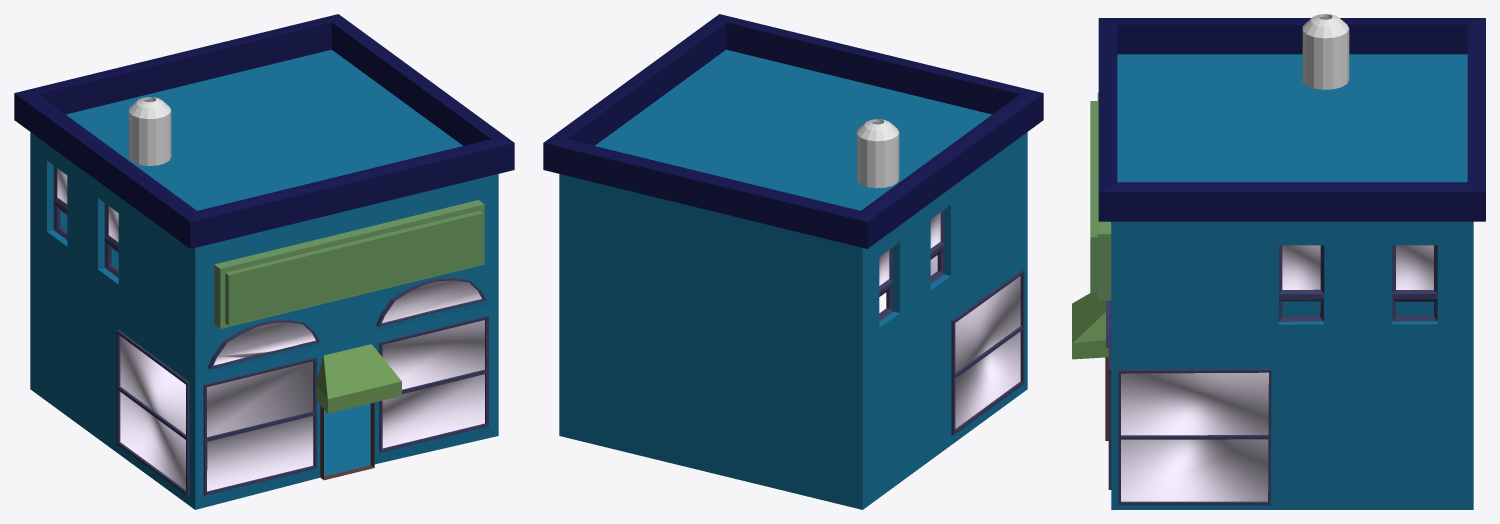
The model's file is toytoyshop.fbx.
3 views of the same model, side by side, from view 1: azimuth 30°, elevation 25°; view 2: azimuth 150°, elevation 25°; view 3: azimuth 270°, elevation 25° (orthographic). The views are drawn at different scales.
Parts seen in each view (by area): view 1: Plane.011; view 2: Plane.011; view 3: Plane.011.
Boxes of the visible parts, x1,y1,x2,y2 form: Plane.011: (14, 14, 514, 509); Plane.011: (543, 14, 1043, 509); Plane.011: (1072, 14, 1485, 509).
Bounding box in the file's own units: 2948 × 2852 × 2966.
